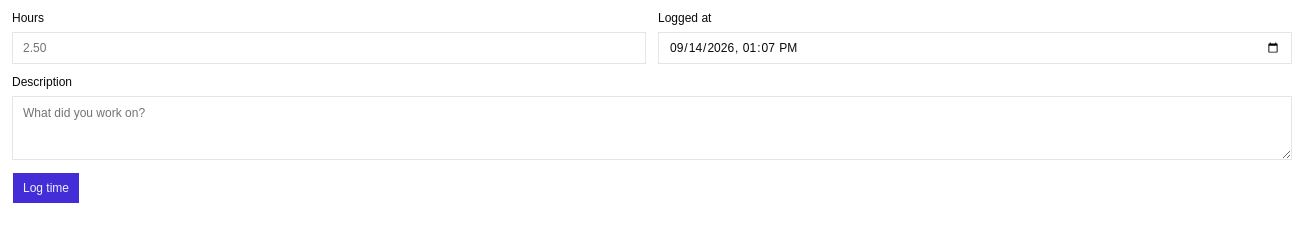
Test: TimeLogForm › maps 422 validation errors to form fields
Step 1. Type "0" into the field labelled "Hours" → [329, 48], box [12,32,646,64]
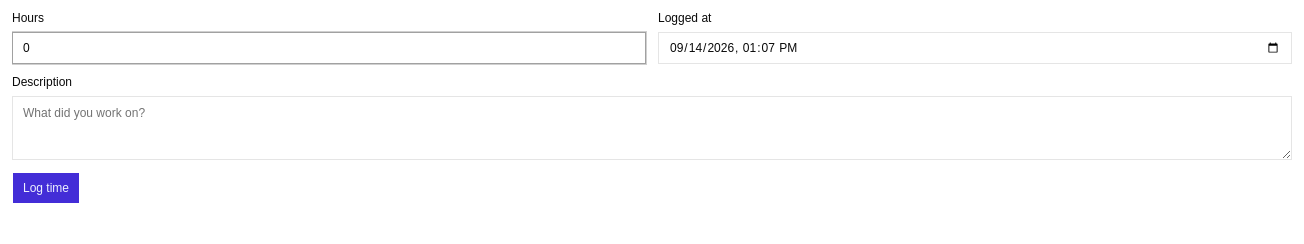
Step 2. Click the button "Log time" → [46, 188], box [12,172,80,204]
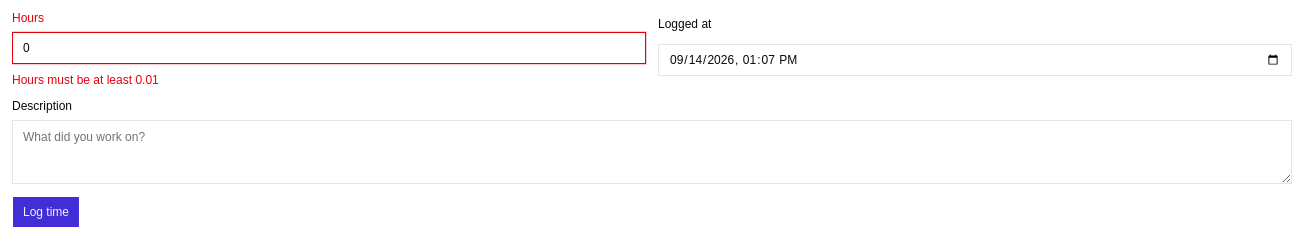
Result: the text "Hours must be at least 0.01" is shown at [12,73,159,87]
